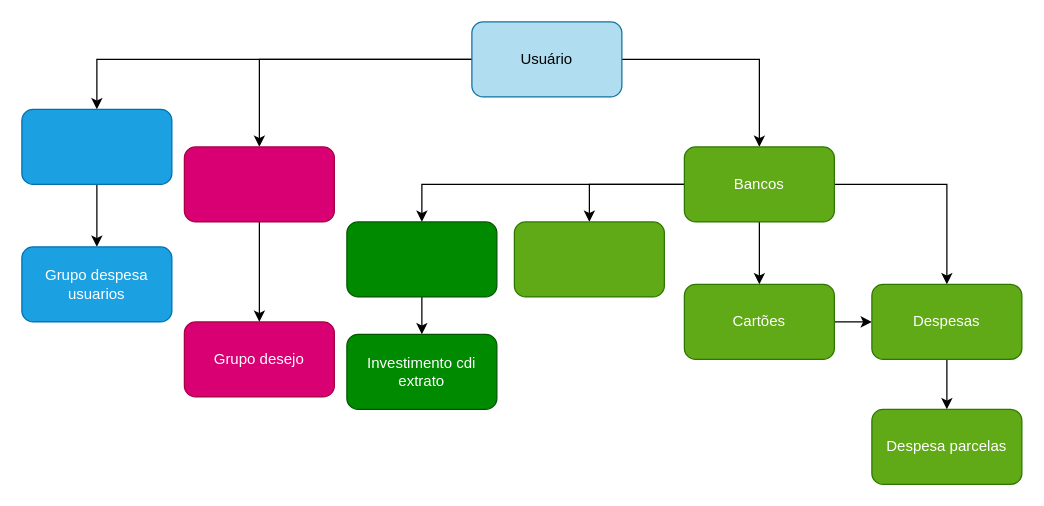
Some shapes in this 1044 by 506 pixel diagram are drawn without their labels. Here are the shapes that lost their labels. From the top down, the centre of each, then its label:
At (x=96, y=146): "Grupo de despesa".
At (x=258, y=184): "Items desejo".
At (x=421, y=259): "Investimendo cdi".
At (x=588, y=259): "Receitas".
